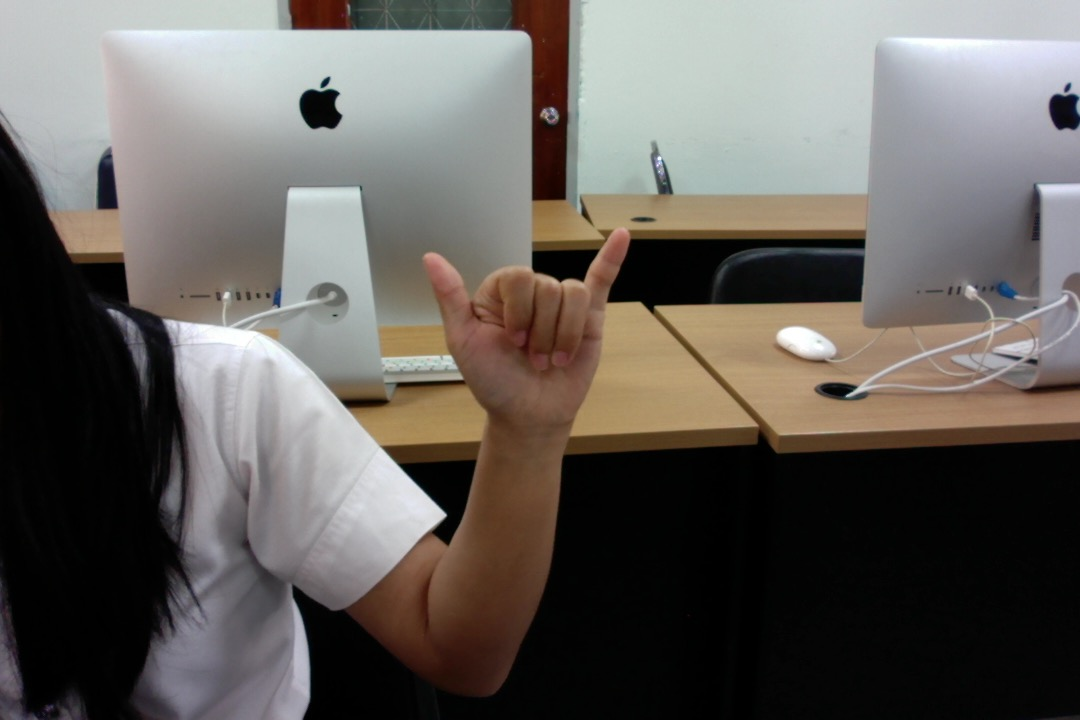yor: (411, 227, 636, 440)
